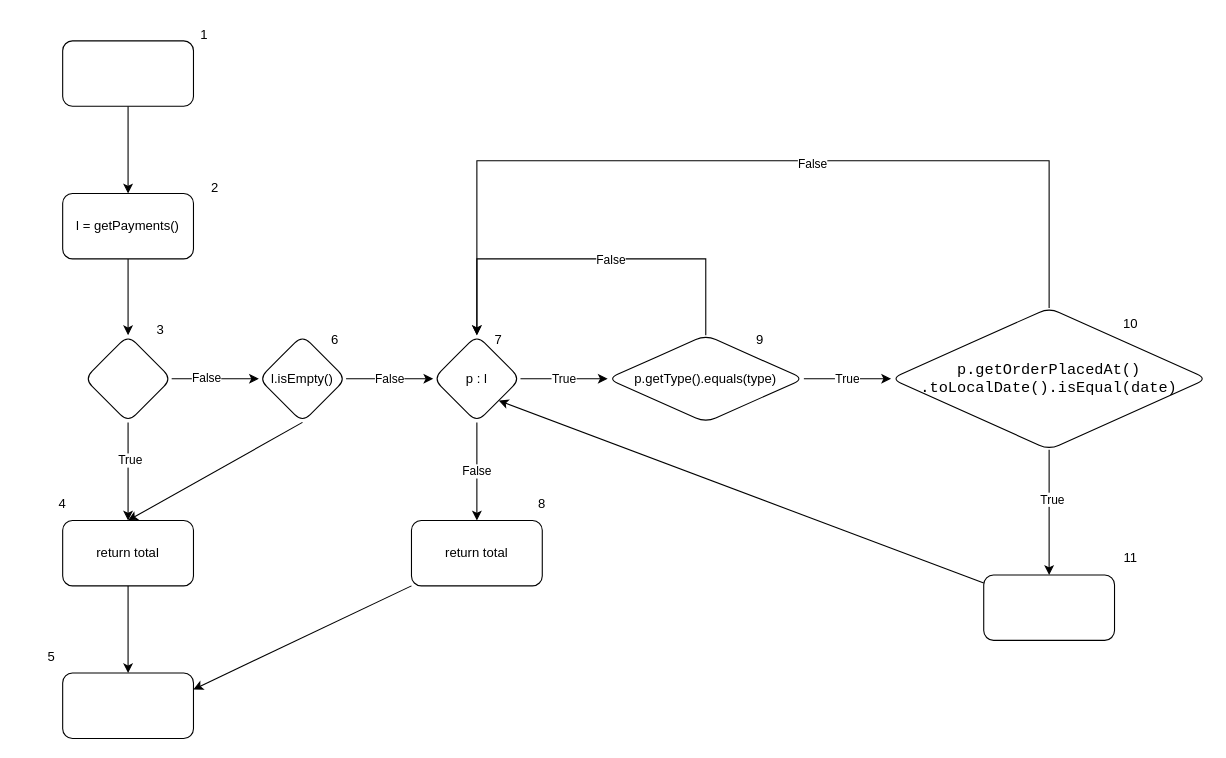
Some shapes in this 1226 by 758 pixel diagram are drawn without their labels. The shapes that lost their labels are listed below. From the top down, each one's centre as x and y in pixels, then its label:
At (x=127, y=73): "total = 0.0d".
At (x=127, y=378): "l == null".
At (x=1049, y=607): "total += p.getAmount()".
At (x=127, y=705): "END".
